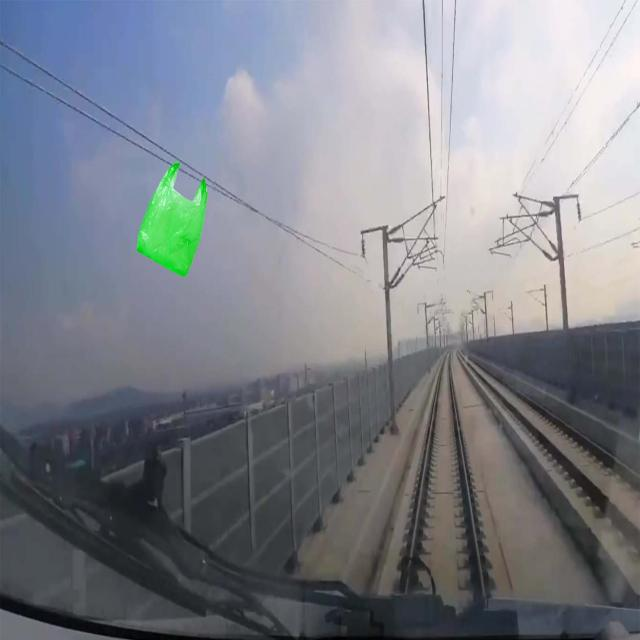plastic bag: (126, 164, 212, 281)
